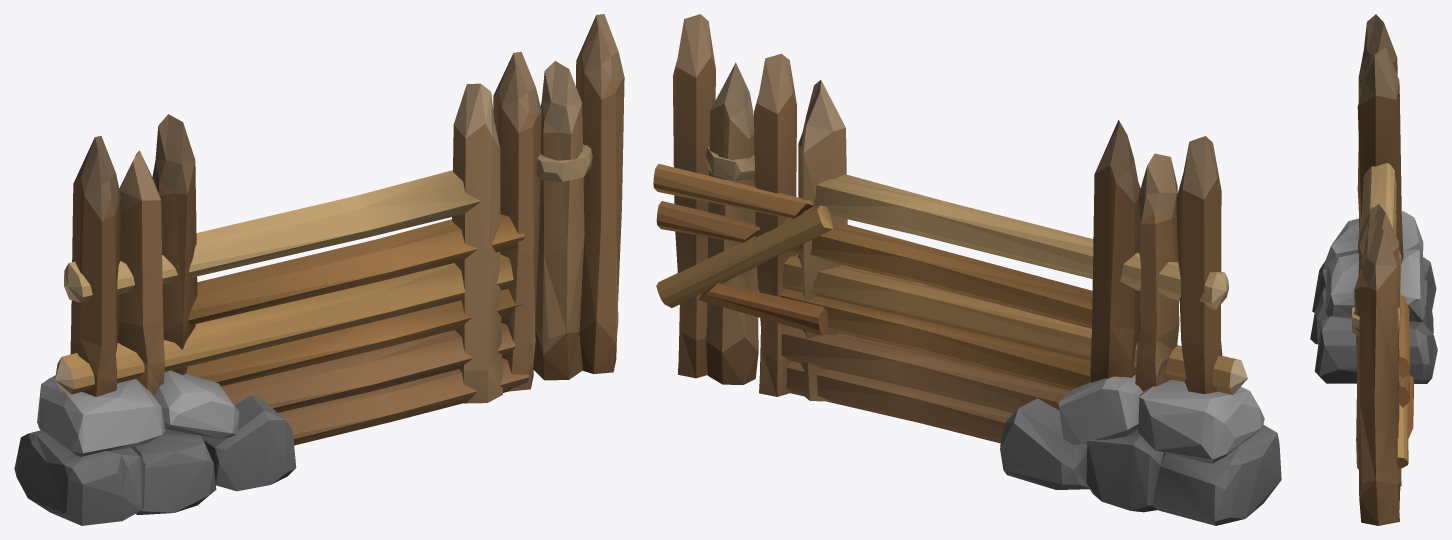
Rendered from fence_stonewall.glb.
The picture shows the model from 3 angles, left to right: view 1: azimuth 30°, elevation 25°; view 2: azimuth 150°, elevation 25°; view 3: azimuth 270°, elevation 25°; orthographic projection. The views are drawn at different scales.
Bounding box in the file's own units: 2.4 × 1.4 × 0.5368.
